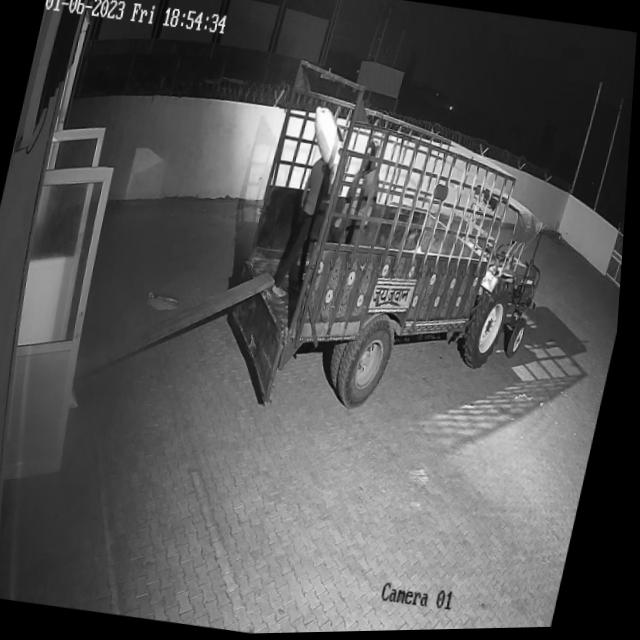sack: (306, 105, 354, 168)
